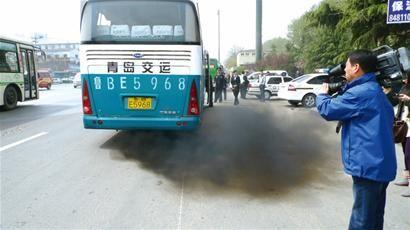smoke: (120, 129, 328, 188)
